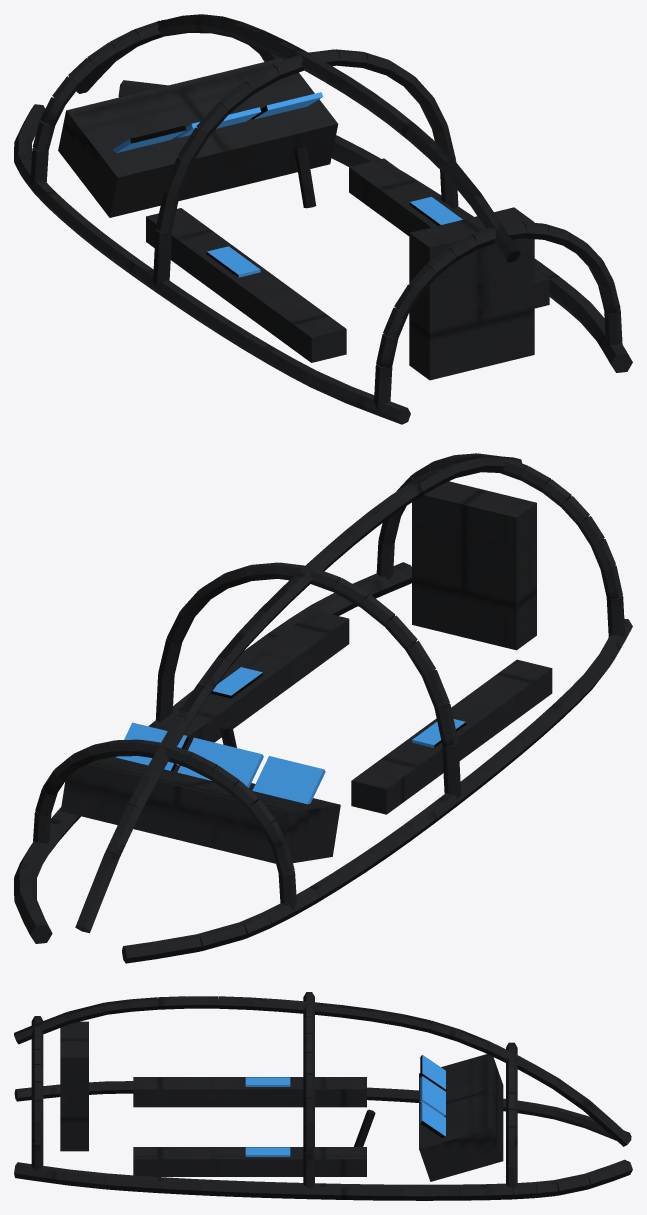
File: CabinaFrente.fbx
3 renders of one model, top to bottom at view 1: azimuth 30°, elevation 25°; view 2: azimuth 150°, elevation 25°; view 3: azimuth 270°, elevation 25°, orthographic. The views are drawn at different scales.
Visible parts, largest first — view 1: CabinaFrente; view 2: CabinaFrente; view 3: CabinaFrente.
Boxes of the visible parts, x1=… form: CabinaFrente: x1=14, y1=14, x2=632, y2=424; CabinaFrente: x1=14, y1=453, x2=632, y2=963; CabinaFrente: x1=14, y1=992, x2=632, y2=1200.
Bounding box in the file's own units: 279 × 199 × 689.
